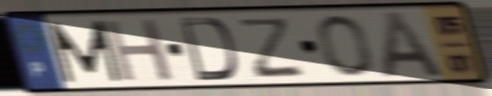A: (380, 9, 448, 81)
D: (177, 16, 239, 83)
H: (101, 17, 177, 85)
M: (43, 18, 125, 85)
O: (315, 13, 375, 79)
Z: (238, 15, 306, 80)
